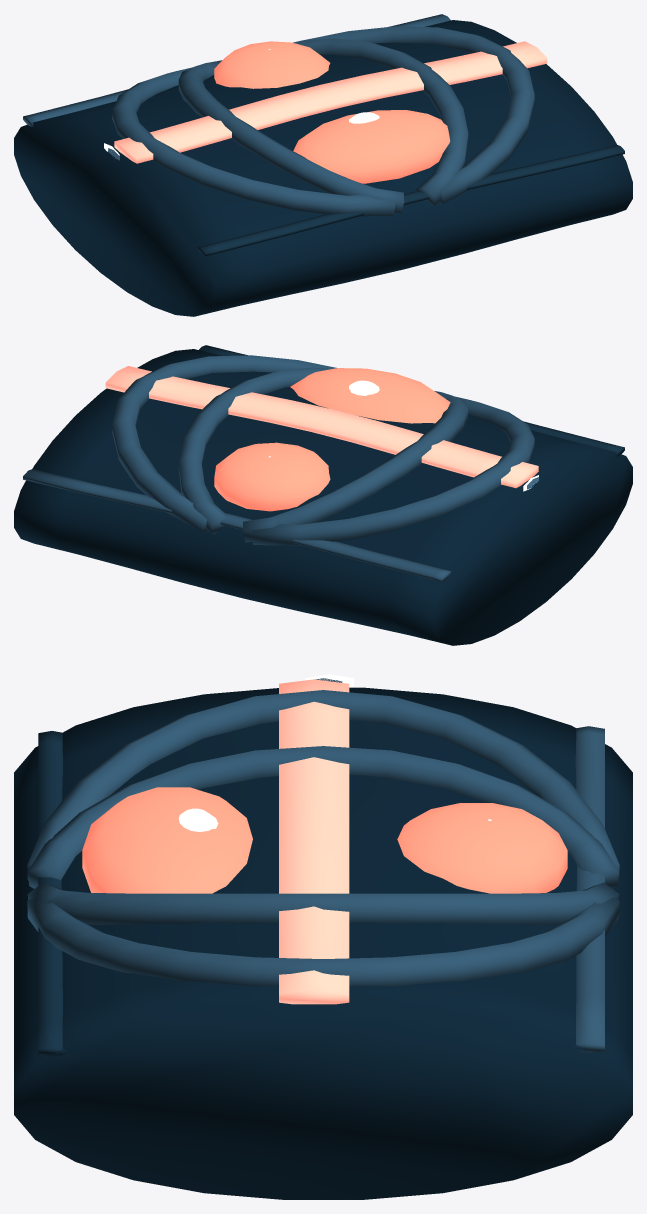
Rendered from newshs-115-f3.glb.
The picture shows the model from 3 angles, top to bottom: view 1: azimuth 30°, elevation 25°; view 2: azimuth 150°, elevation 25°; view 3: azimuth 270°, elevation 25°; orthographic projection. The views are drawn at different scales.
Parts seen in each view (by area): view 1: newshs-115-f3; view 2: newshs-115-f3; view 3: newshs-115-f3.
Boxes of the visible parts, x1,y1,x2,y2 form: newshs-115-f3: (14,14,632,316); newshs-115-f3: (14,345,632,645); newshs-115-f3: (14,674,632,1199).
Size of the model in its own units: 2 by 0.7022 by 1.65.
